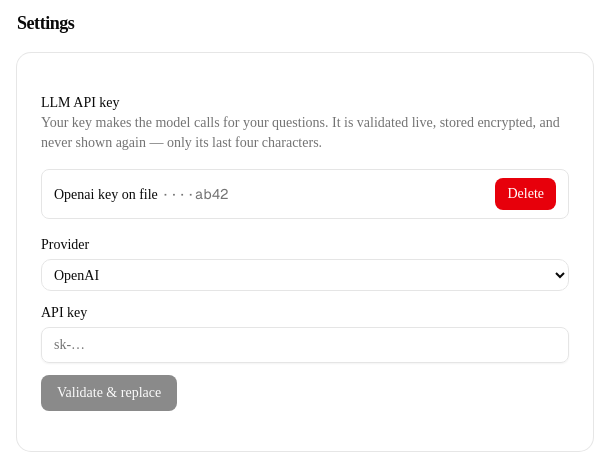
Test: SettingsPage key form › deletes the stored key and returns to the no-key state
Click the button "Delete": [526, 194] box [496,178,556,210]
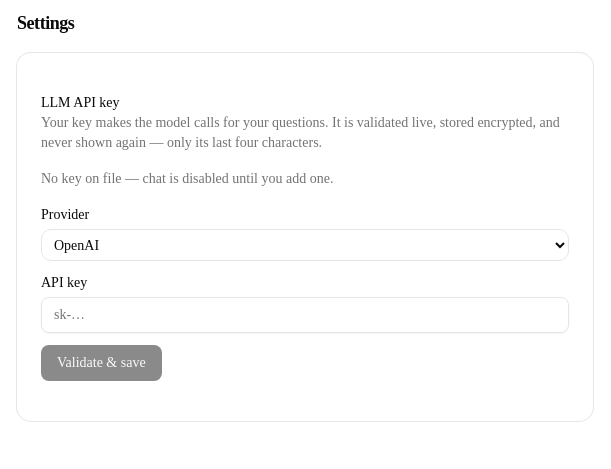
Now the text "No key on file — chat is disabled until you add one." is shown, box [41,171,333,186]
